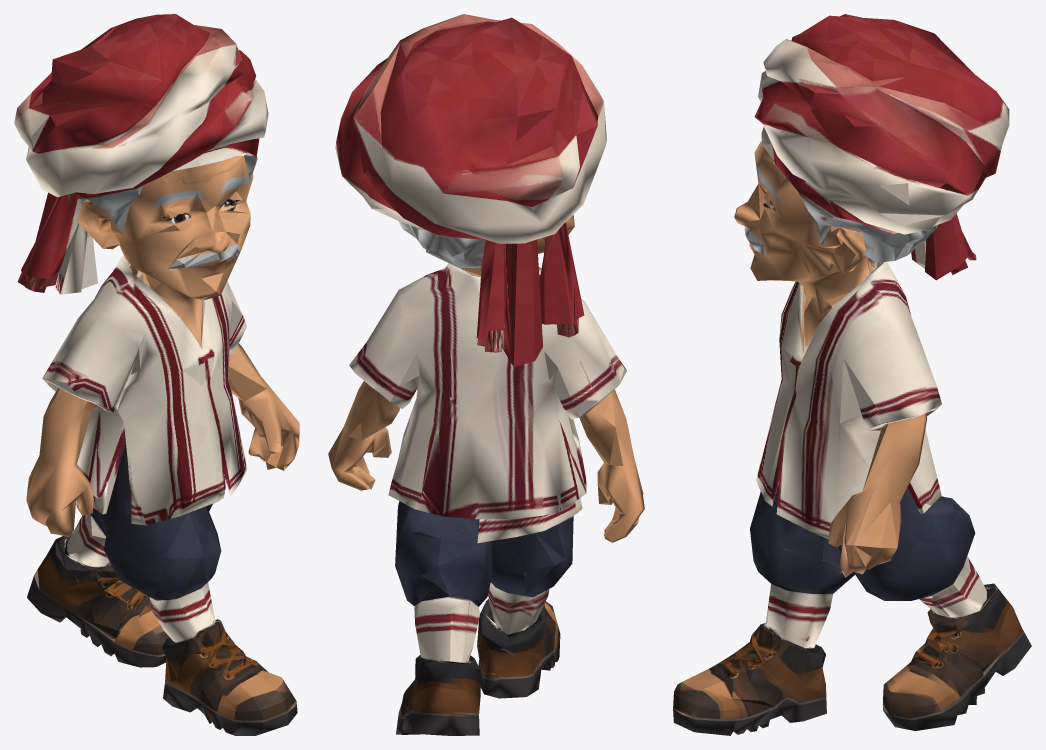
File: C6_villager_c.glb
3 renders of one model, left to right at view 1: azimuth 30°, elevation 25°; view 2: azimuth 150°, elevation 25°; view 3: azimuth 270°, elevation 25°, orthographic. The views are drawn at different scales.
Parts seen in each view (by area): view 1: Mesh_0.001; view 2: Mesh_0.001; view 3: Mesh_0.001.
Part boxes in pixels (bbox=[...]): Mesh_0.001: bbox=[14, 14, 299, 735]; Mesh_0.001: bbox=[328, 14, 644, 735]; Mesh_0.001: bbox=[673, 14, 1031, 735].
Size of the model in its own units: 0.5146 by 1.15 by 0.5426.
1 material, 1 textured.
